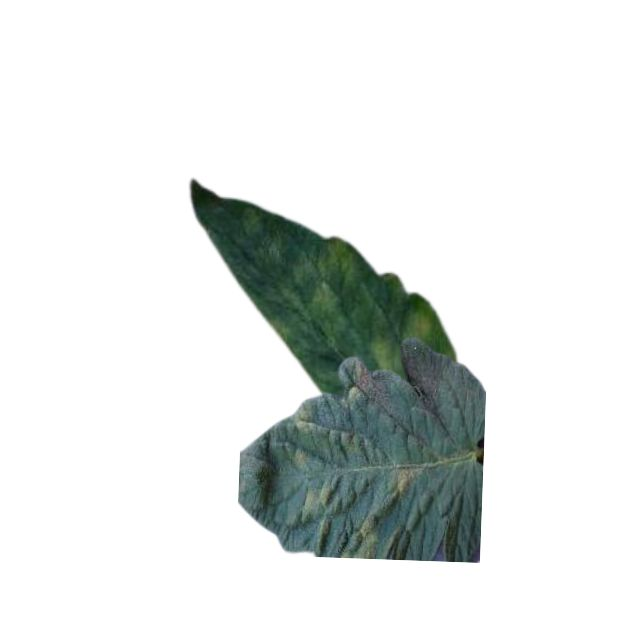Leaf_Mold: (298, 279, 341, 344), (338, 515, 382, 560), (366, 335, 405, 379), (298, 483, 335, 523), (320, 238, 354, 281), (387, 463, 419, 499), (290, 403, 324, 435), (404, 309, 434, 342), (288, 444, 315, 474)
